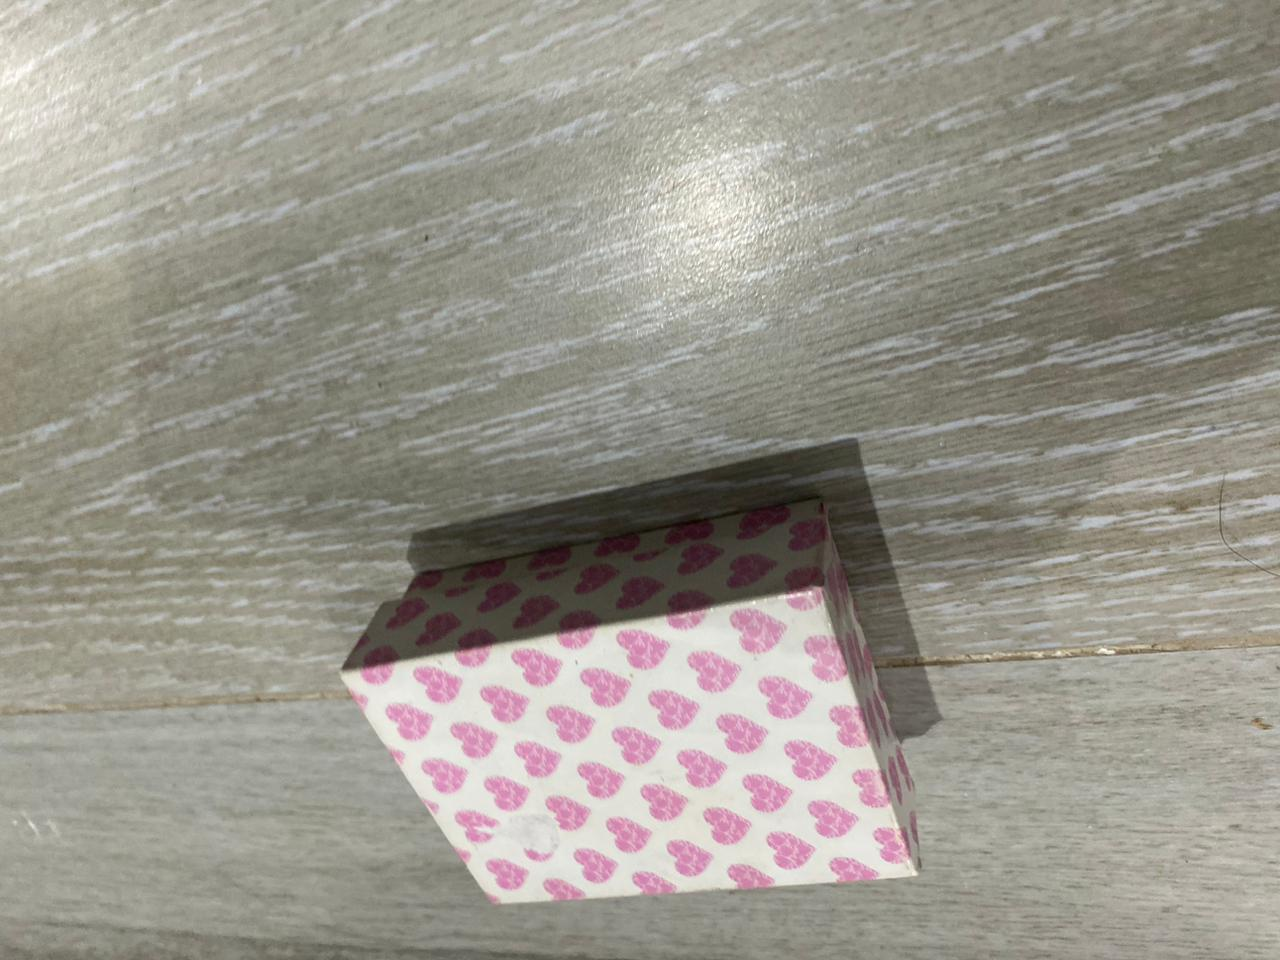Pink Box: (335, 497, 928, 912)
